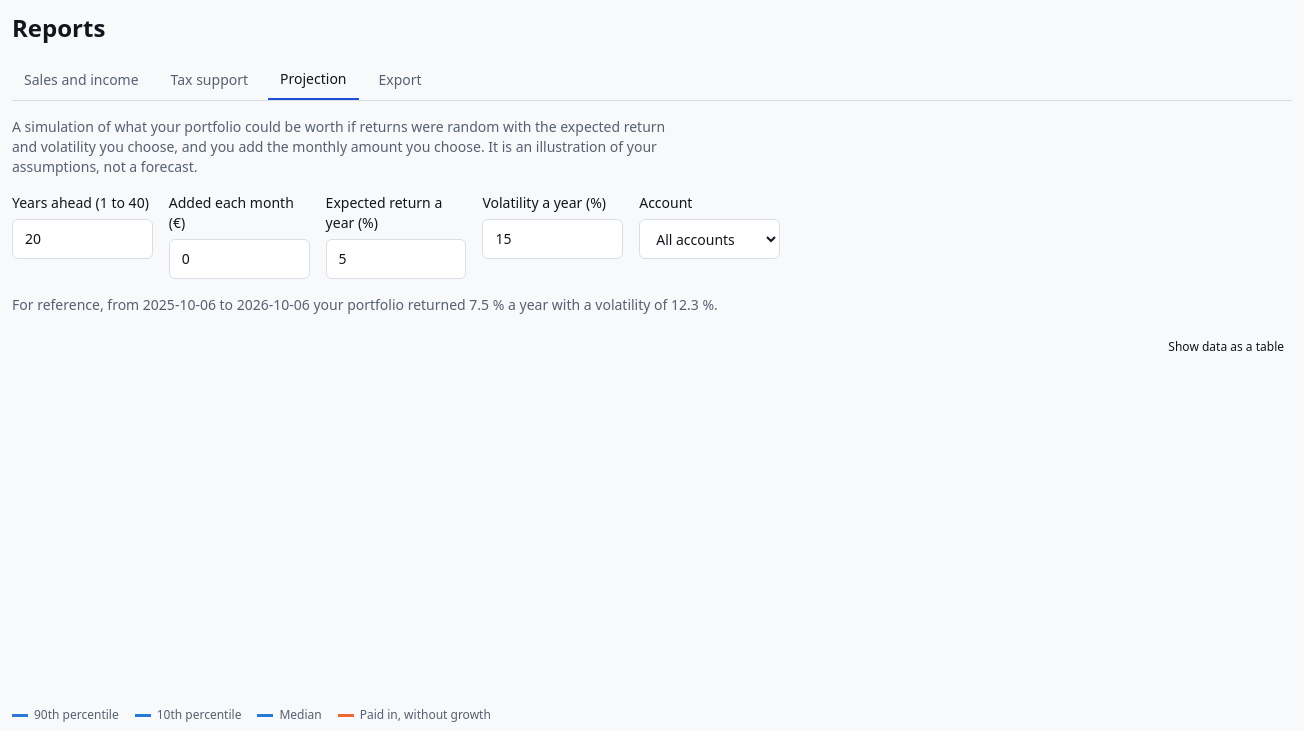
the projection tab (FR-PF-12) › reads as a table too (every chart can)
Click the button "Show data as a table".
click(1226, 347)  # box [1160,331,1292,363]
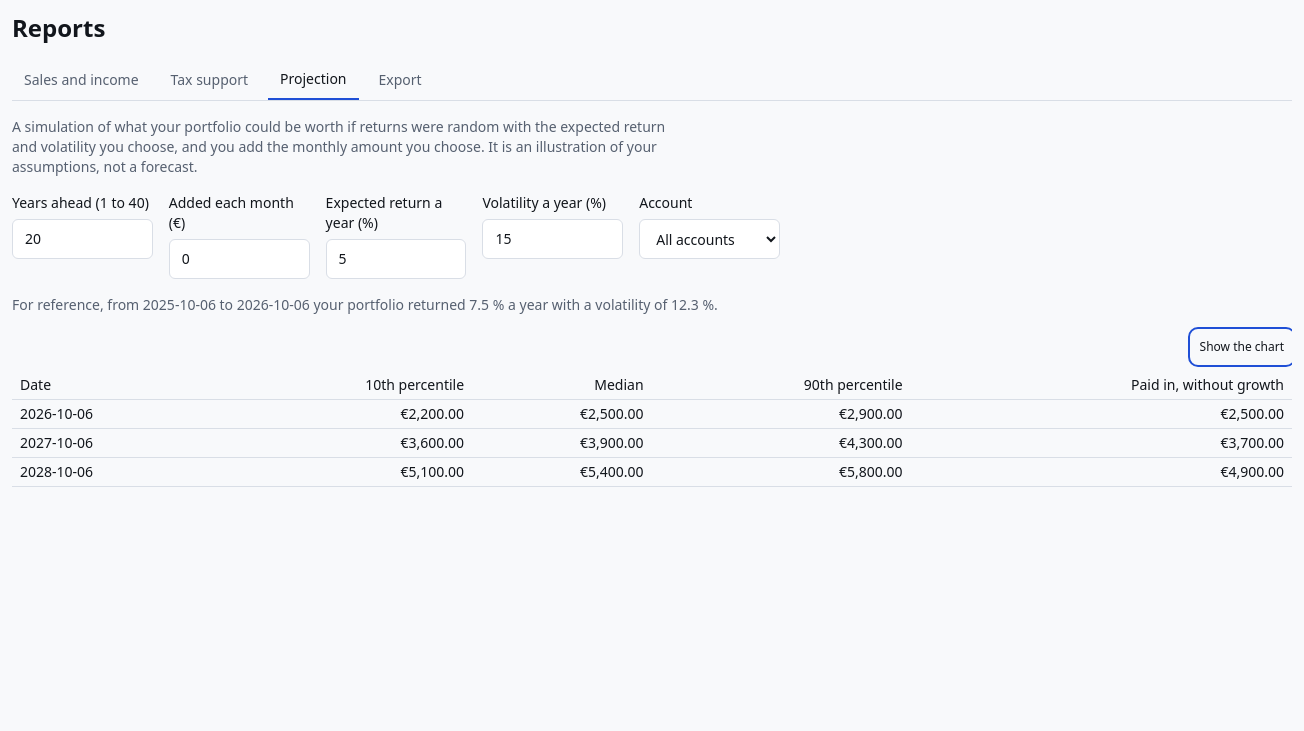
Result: the number of rows is 4 at [12,371,1292,400]; [12,400,1292,428]; [12,428,1292,458]; [12,458,1292,486]
Result: the row "2028-10-06 €5,100.00 €5,400.00 €5,800.00 €4,900.00" is shown at [12,458,1292,486]
